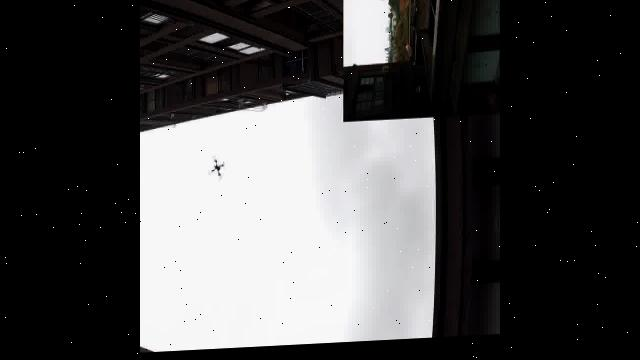drone: (209, 160, 229, 182)
